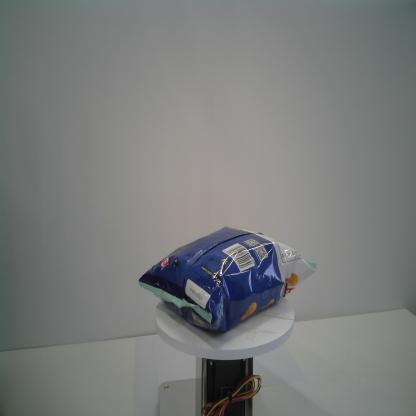Puffed Food: (139, 226, 318, 334)
